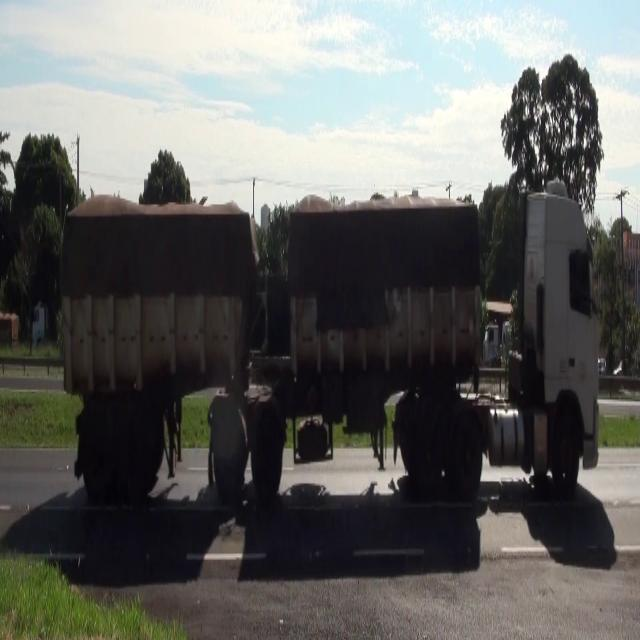-axle: (447, 418, 483, 506), (549, 407, 583, 500), (411, 407, 442, 503), (250, 422, 285, 499), (115, 417, 145, 503), (212, 418, 243, 498), (84, 423, 112, 498)
